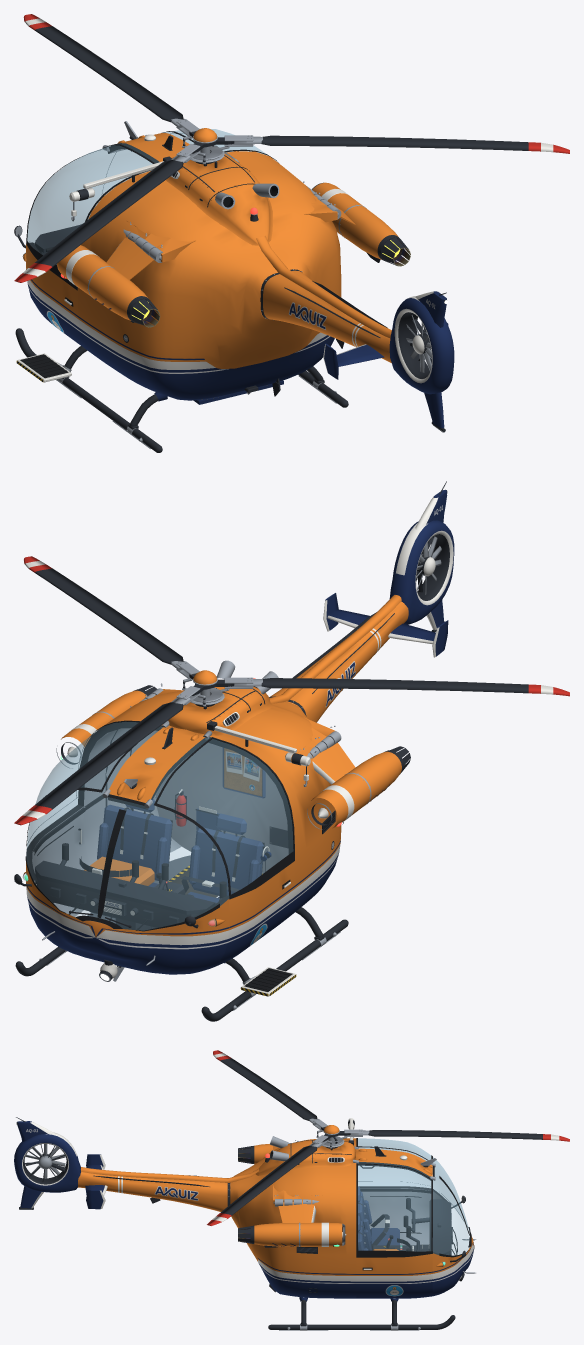
File: helicopter_boarding.glb
3 renders of one model, top to bottom at view 1: azimuth 30°, elevation 25°; view 2: azimuth 150°, elevation 25°; view 3: azimuth 270°, elevation 25°, orthographic. The views are drawn at different scales.
Visible parts, largest first — view 1: Body, MainRotorBlades, Door_L, Windows, JetPod_L, FrameAndSkids, JetPod_R, MainRotor, JetNozzle_R, JetNozzle_L, Interior; view 2: Body, Interior, Windows, Door_L, MainRotorBlades, Door_R, JetPod_L, FrameAndSkids, MainRotor, JetPod_R, Booster_R; view 3: Body, Door_R, Door_L, MainRotorBlades, Interior, JetPod_R, Windows, FrameAndSkids, MainRotor, TailRotor.
Boxes of the visible parts, x1,y1,x2,y2 form: Body: [14, 121, 454, 432]; MainRotorBlades: [14, 14, 569, 282]; Door_L: [26, 143, 158, 355]; Windows: [25, 135, 193, 252]; JetPod_L: [56, 229, 162, 323]; FrameAndSkids: [15, 328, 348, 452]; JetPod_R: [307, 182, 403, 262]; MainRotor: [171, 118, 262, 164]; JetNozzle_R: [381, 237, 410, 266]; JetNozzle_L: [130, 298, 160, 327]; Interior: [35, 151, 131, 264]; Body: [14, 481, 454, 981]; Interior: [35, 729, 288, 930]; Windows: [23, 790, 228, 930]; Door_L: [151, 737, 294, 967]; MainRotorBlades: [14, 556, 569, 825]; Door_R: [26, 720, 162, 910]; JetPod_L: [307, 731, 403, 829]; FrameAndSkids: [15, 907, 348, 1021]; MainRotor: [171, 661, 262, 706]; JetPod_R: [56, 688, 163, 768]; Booster_R: [84, 856, 154, 885]; Body: [14, 1117, 476, 1298]; Door_R: [356, 1162, 432, 1297]; Door_L: [356, 1138, 432, 1240]; MainRotorBlades: [207, 1050, 569, 1225]; Interior: [358, 1165, 457, 1255]; JetPod_R: [250, 1199, 346, 1247]; Windows: [432, 1157, 469, 1266]; FrameAndSkids: [268, 1297, 455, 1330]; MainRotor: [309, 1118, 369, 1148]; TailRotor: [25, 1144, 65, 1178].
Bounding box in the file's own units: 9.24 × 4.5 × 12.36.
19 materials, 3 textured.
